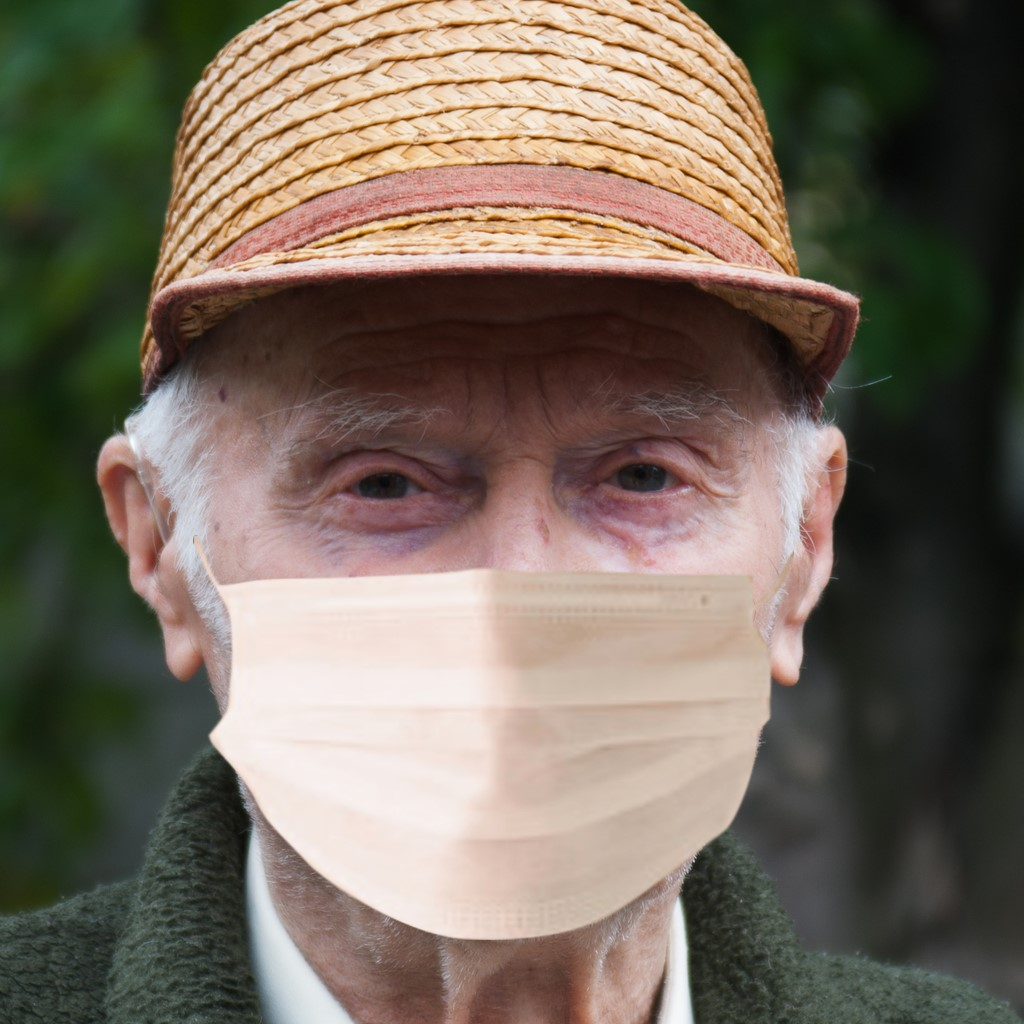con_mascara: (148, 253, 827, 946)
